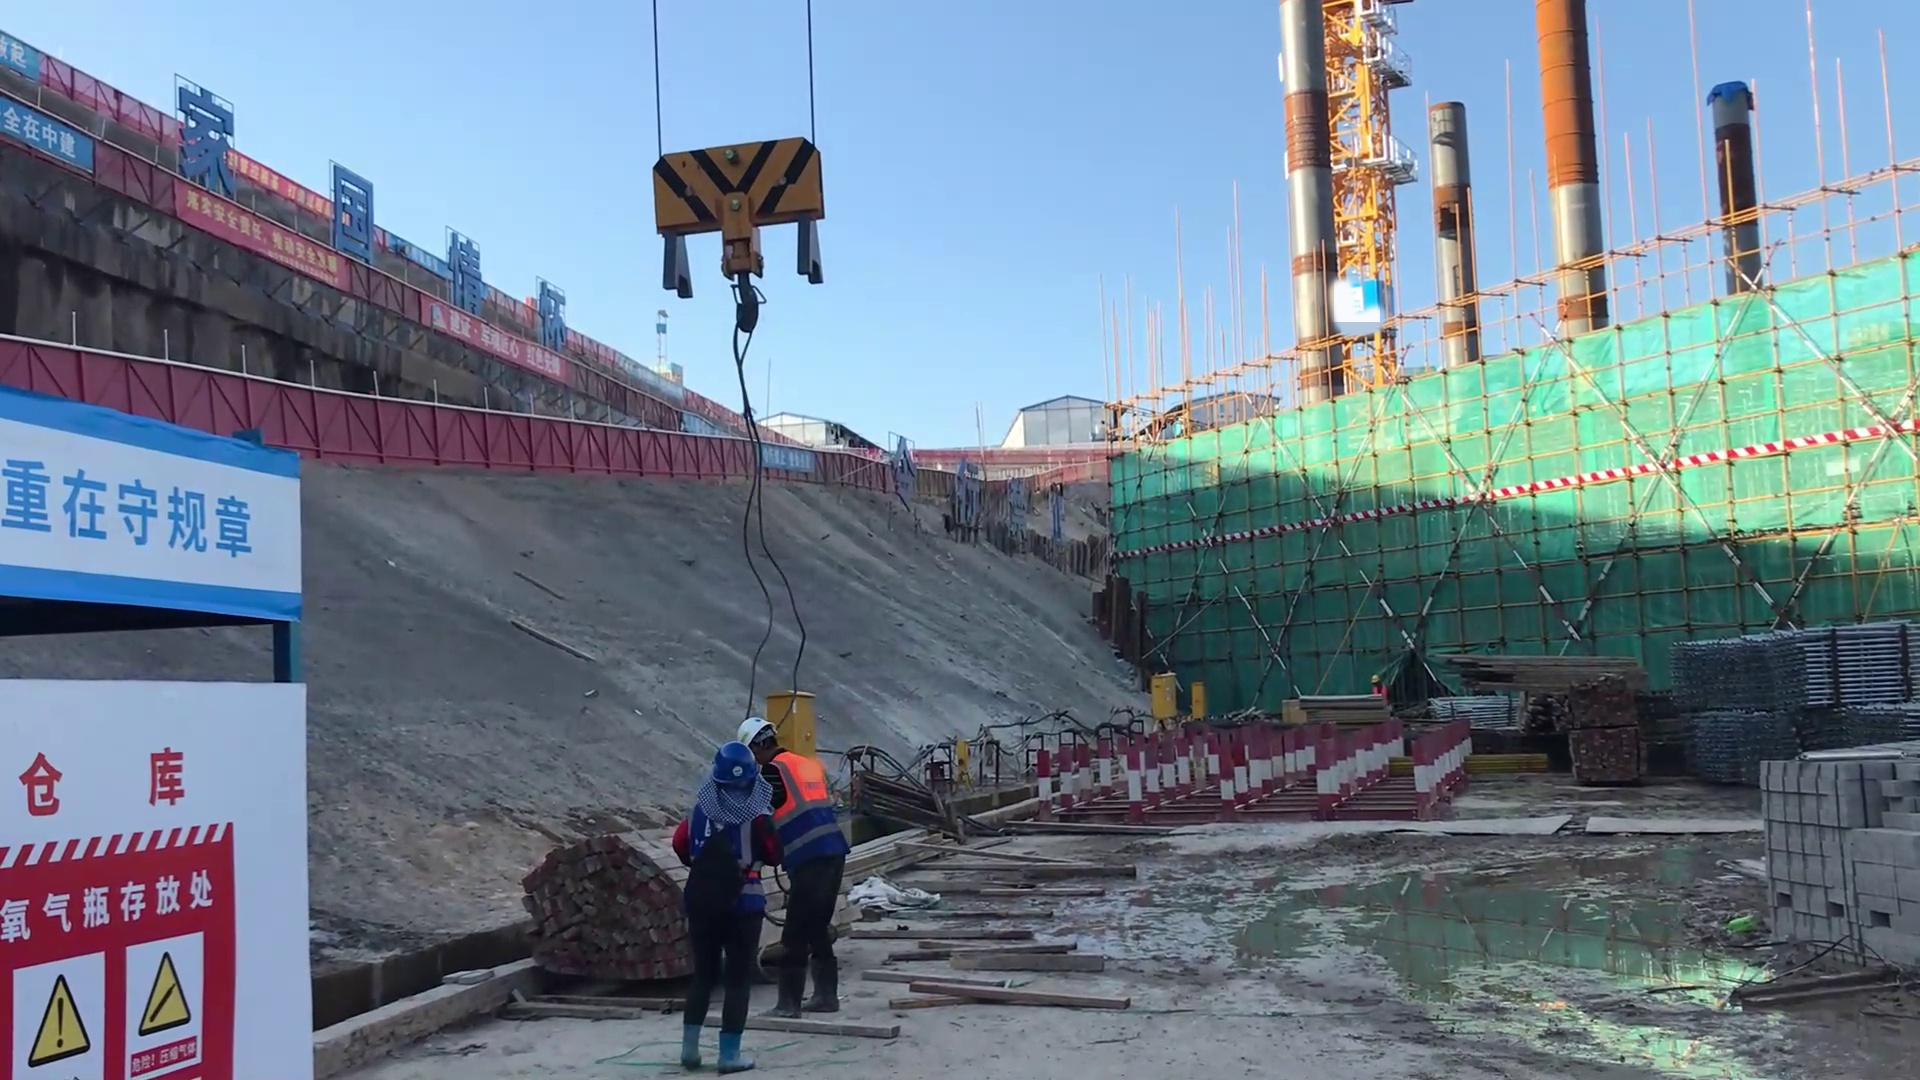brick: (1749, 731, 1920, 977)
ebox: (1150, 669, 1182, 724), (1191, 677, 1206, 720)
fence: (288, 378, 595, 479), (589, 416, 770, 486)
helmet: (711, 751, 763, 812), (735, 715, 787, 768), (1371, 674, 1379, 682)
hook: (660, 120, 825, 307)
person: (735, 704, 852, 1015), (683, 749, 765, 1073), (1367, 672, 1391, 708)
scaffold: (1652, 618, 1920, 716)
slogan: (8, 737, 273, 1080), (1, 425, 259, 587), (138, 157, 347, 335), (1, 115, 106, 197)
vest: (761, 750, 830, 813), (1371, 685, 1386, 700)
wood: (493, 812, 693, 1005), (1433, 641, 1625, 713)
